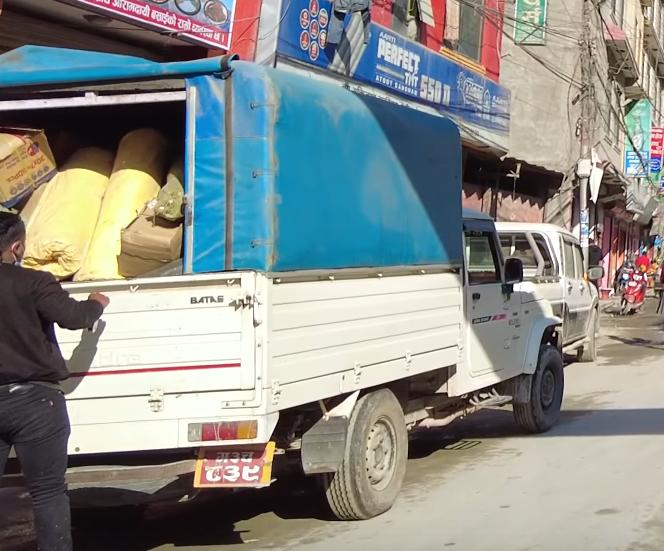scooter: (610, 259, 648, 323)
transport_vehicle: (0, 44, 579, 551)
